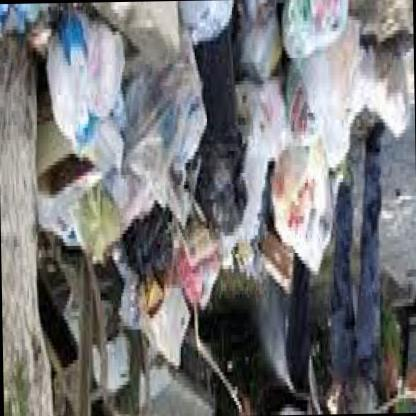Garbage: (51, 5, 356, 205), (266, 94, 347, 245), (127, 200, 174, 278), (82, 174, 120, 268)
